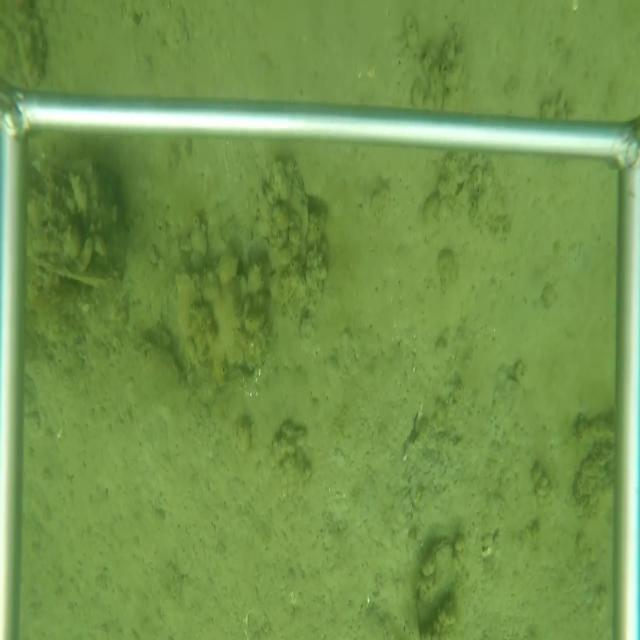Oyster-Closed: (267, 158, 313, 269), (29, 252, 119, 297), (417, 537, 460, 628)
